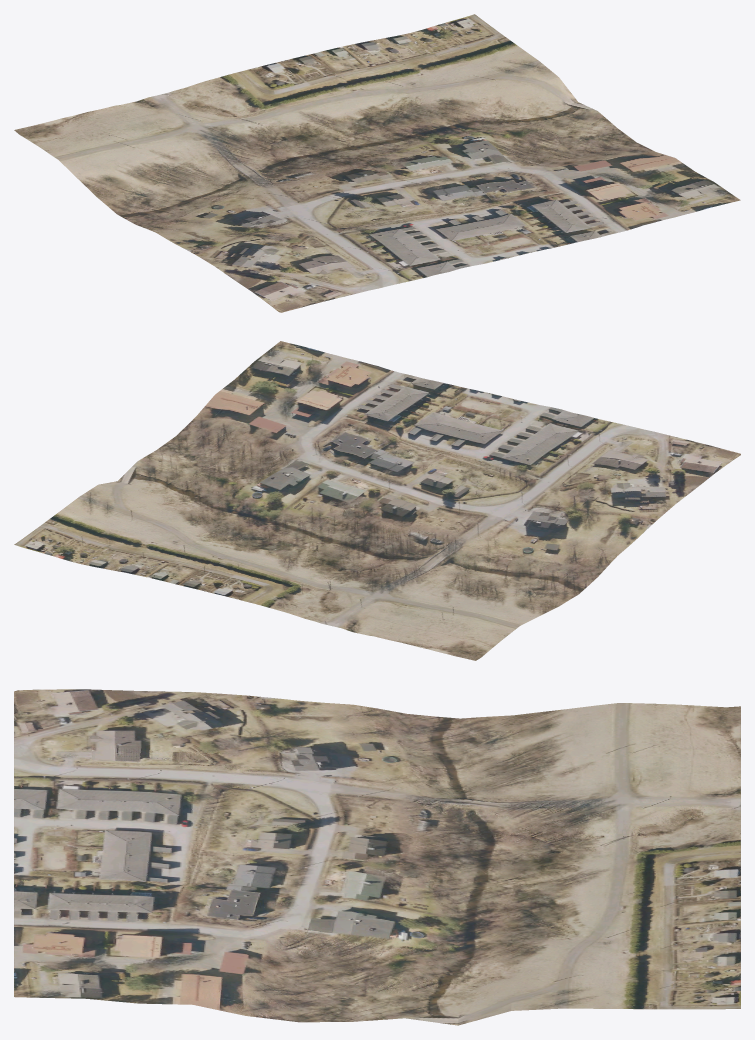
File: CM_Terrain_24489639_6818360.fbx
3 views of the same model, one above another, from view 1: azimuth 30°, elevation 25°; view 2: azimuth 150°, elevation 25°; view 3: azimuth 270°, elevation 25° (orthographic). The views are drawn at different scales.
Visible parts, largest first — view 1: CM_Terrain_24489639_6818360_LOD0; view 2: CM_Terrain_24489639_6818360_LOD0; view 3: CM_Terrain_24489639_6818360_LOD0.
Part boxes in pixels (x1,y1,x2,y2): CM_Terrain_24489639_6818360_LOD0: (14,14,740,312); CM_Terrain_24489639_6818360_LOD0: (14,341,740,660); CM_Terrain_24489639_6818360_LOD0: (14,689,740,1025).
Size of what is drawn, in the model's own units: 205 by 10.09 by 205.
